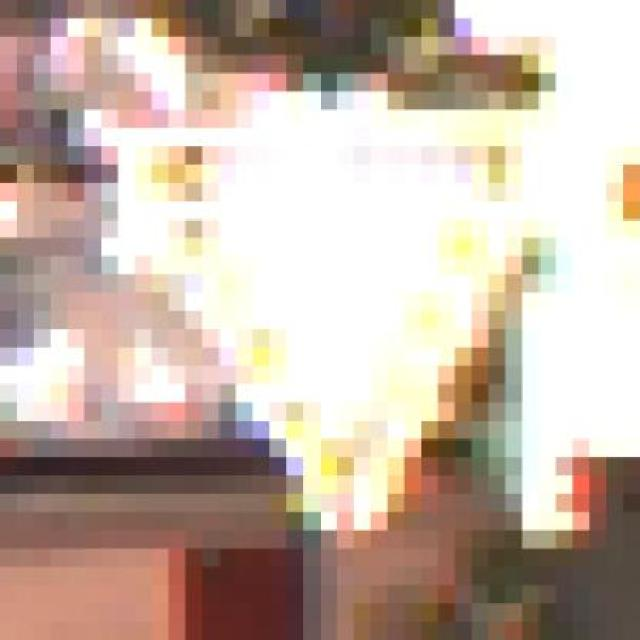Give Way: (80, 74, 586, 532)
